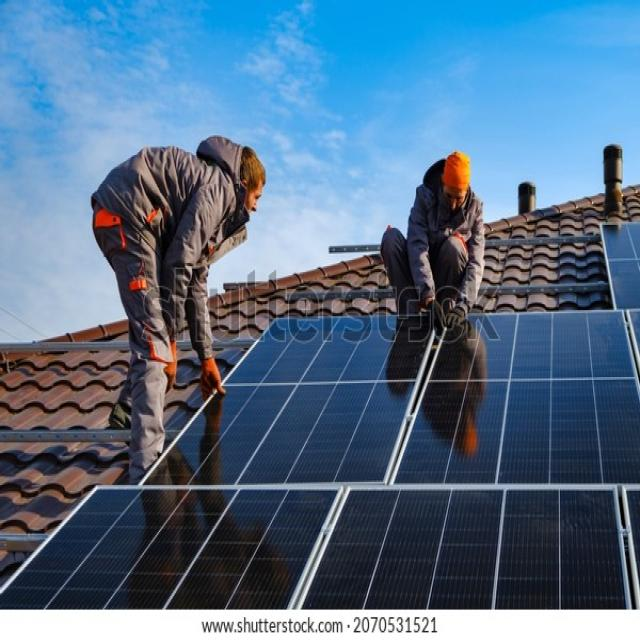clean-solar-panel: (0, 224, 640, 609)
